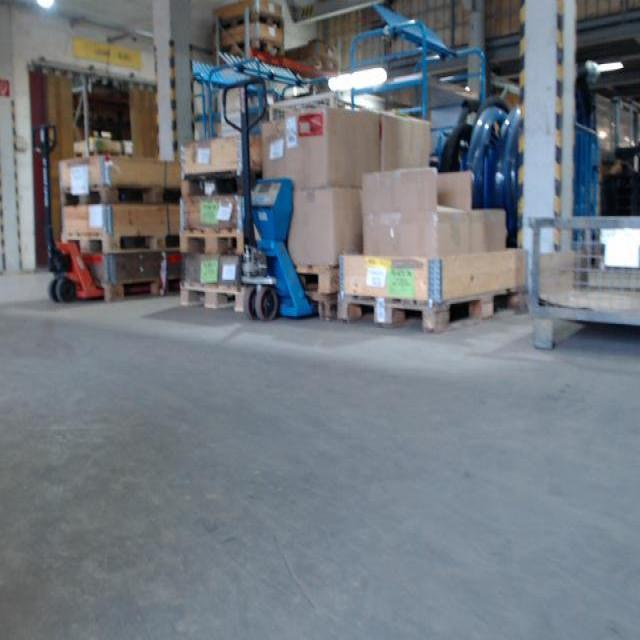pallet: (338, 287, 529, 335), (59, 229, 183, 259), (57, 184, 183, 209), (103, 271, 182, 305), (178, 279, 246, 316), (179, 169, 255, 202), (180, 230, 245, 258), (219, 36, 284, 59), (218, 11, 285, 31)
pallet_truck: (215, 66, 322, 325), (31, 121, 121, 308)
stillage: (529, 217, 639, 361)
